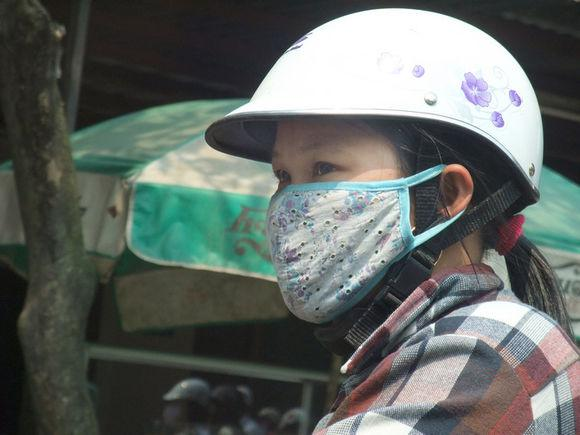OK: (269, 137, 442, 310)
